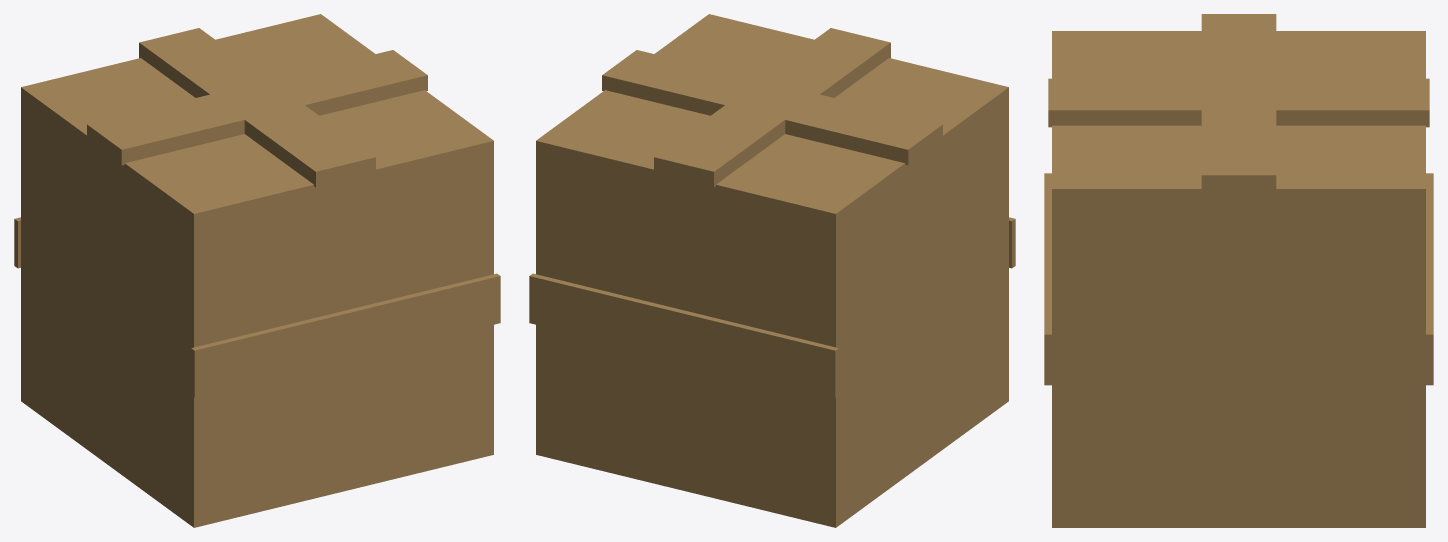
File: Crate.fbx
3 renders of one model, left to right at view 1: azimuth 30°, elevation 25°; view 2: azimuth 150°, elevation 25°; view 3: azimuth 270°, elevation 25°, orthographic. The views are drawn at different scales.
Parts seen in each view (by area): view 1: Crate; view 2: Crate; view 3: Crate.
Part boxes in pixels (bbox=[...]): Crate: bbox=[14, 14, 500, 527]; Crate: bbox=[529, 14, 1015, 527]; Crate: bbox=[1044, 14, 1433, 527].
Bounding box in the file's own units: 1.02 × 1.05 × 1.04.
